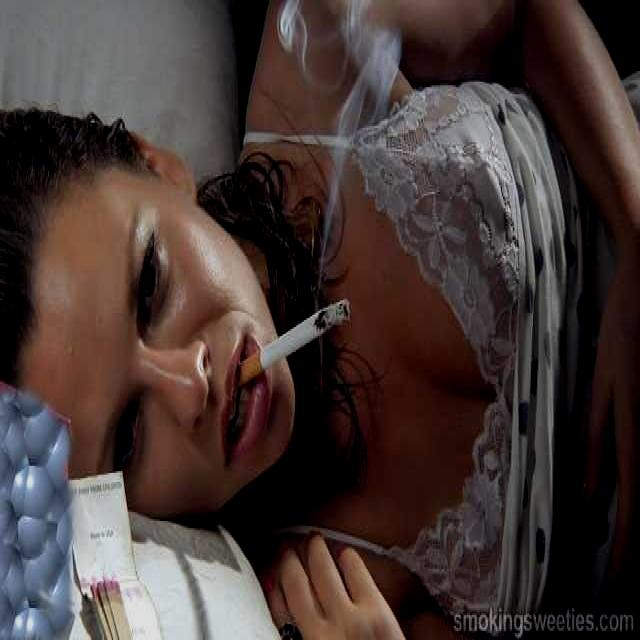Smooking: (242, 294, 359, 386)
